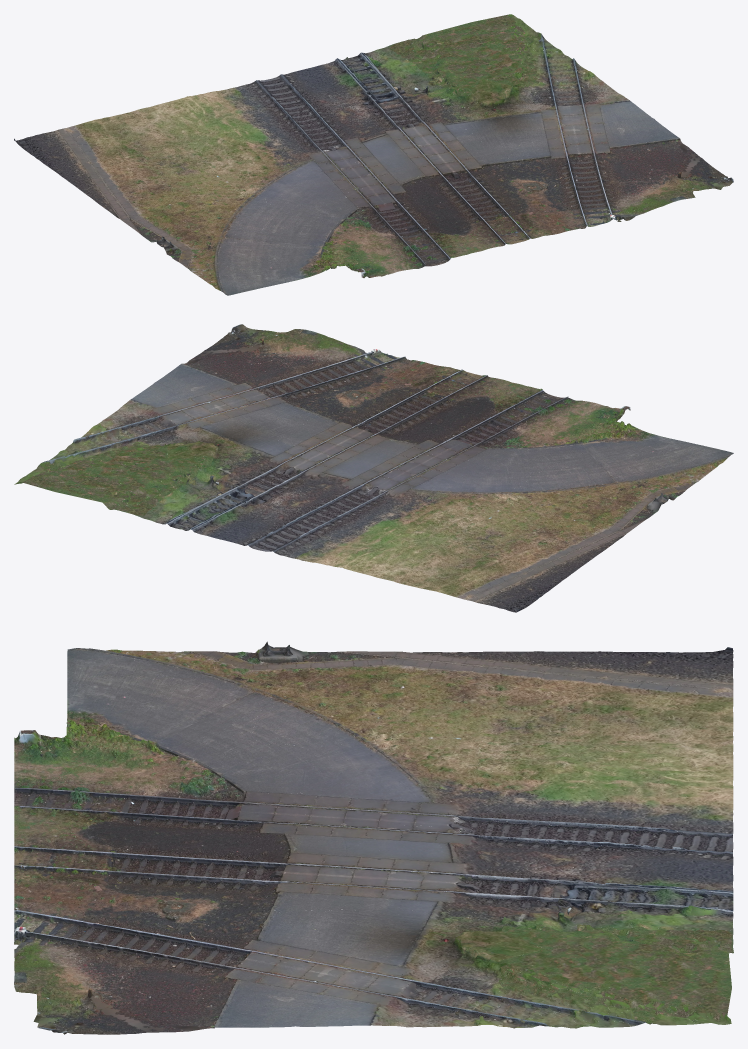
The model's file is sf-3-concrete-railway-crossings-4227ff.glb.
3 renders of one model, top to bottom at view 1: azimuth 30°, elevation 25°; view 2: azimuth 150°, elevation 25°; view 3: azimuth 270°, elevation 25°, orthographic. The views are drawn at different scales.
Parts seen in each view (by area): view 1: kolaje_kolaje_u1_v1_0, kolaje_kolaje_u2_v1_0; view 2: kolaje_kolaje_u1_v1_0, kolaje_kolaje_u2_v1_0; view 3: kolaje_kolaje_u1_v1_0, kolaje_kolaje_u2_v1_0.
Boxes of the visible parts, <box> form: kolaje_kolaje_u1_v1_0: <box>14,14,733,290</box>; kolaje_kolaje_u2_v1_0: <box>167,14,733,295</box>; kolaje_kolaje_u1_v1_0: <box>17,326,727,612</box>; kolaje_kolaje_u2_v1_0: <box>14,324,733,520</box>; kolaje_kolaje_u1_v1_0: <box>14,641,733,1034</box>; kolaje_kolaje_u2_v1_0: <box>14,648,733,1034</box>.
Bounding box in the file's own units: 24.94 × 0.5722 × 19.96.
Materials: 2 (2 with a texture image).
